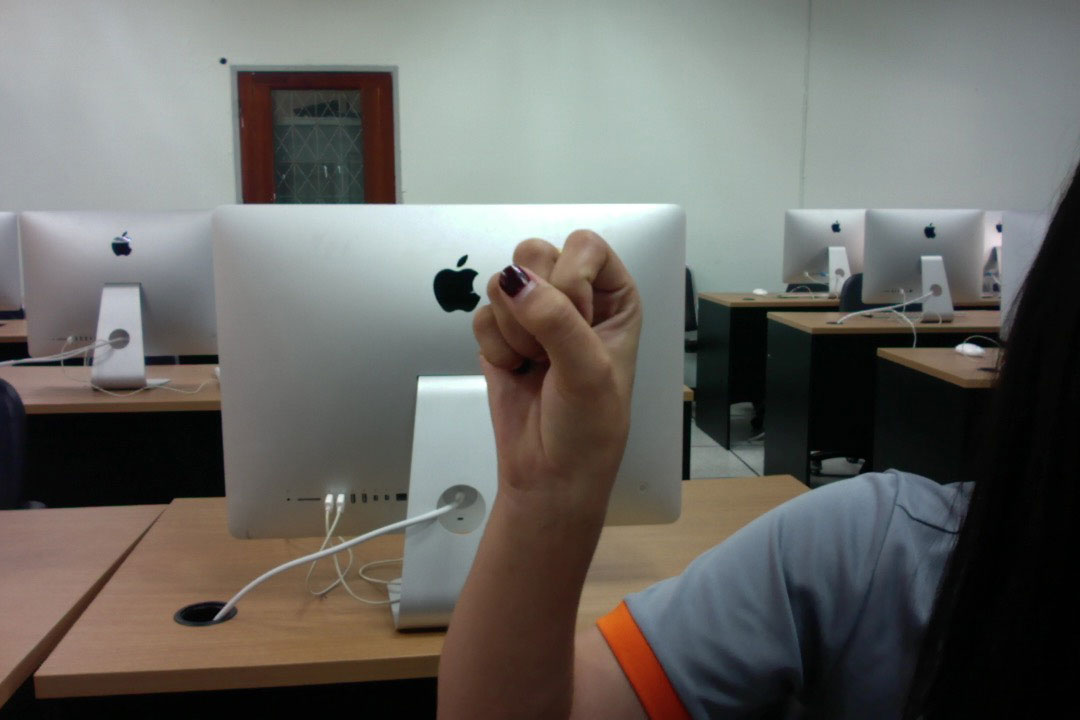sor: (463, 220, 655, 502)
